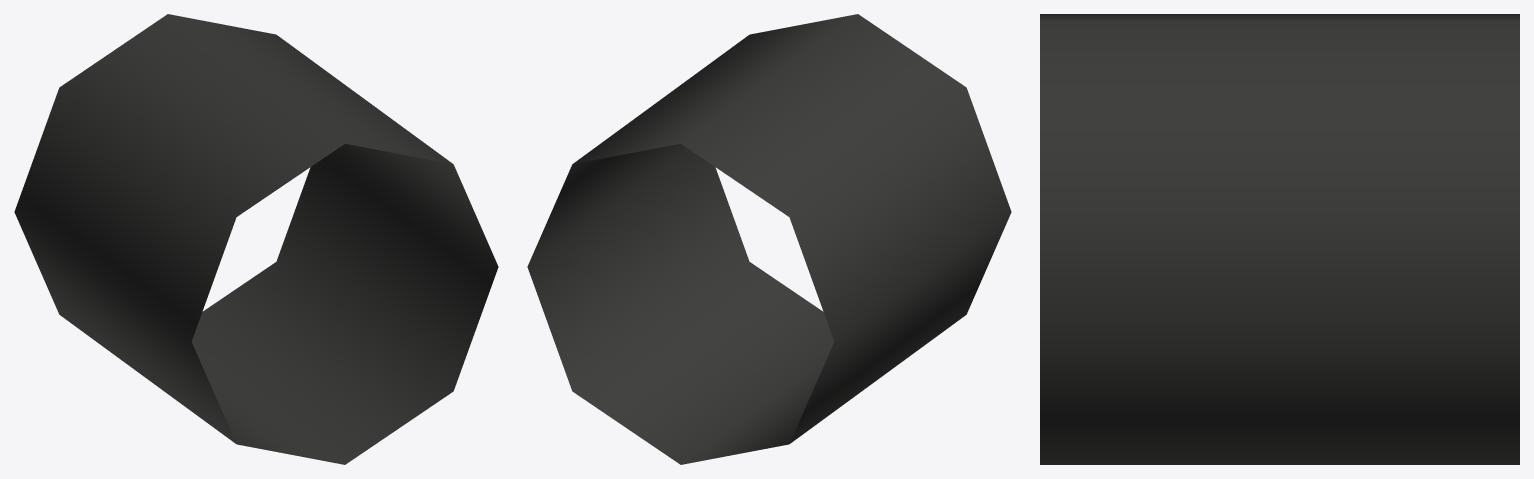
Rendered from card_clickable.glb.
3 renders of one model, left to right at view 1: azimuth 30°, elevation 25°; view 2: azimuth 150°, elevation 25°; view 3: azimuth 270°, elevation 25°, orthographic. The views are drawn at different scales.
Visible parts, largest first — view 1: Cylinder.001; view 2: Cylinder.001; view 3: Cylinder.001.
Boxes of the visible parts, <box> form: Cylinder.001: <box>14,14,498,464</box>; Cylinder.001: <box>527,14,1011,464</box>; Cylinder.001: <box>1040,14,1519,464</box>.
Size of what is drawn, in the model's own units: 0.0388 by 0.0388 by 0.0388.
Materials: 1 (1 with a texture image).
